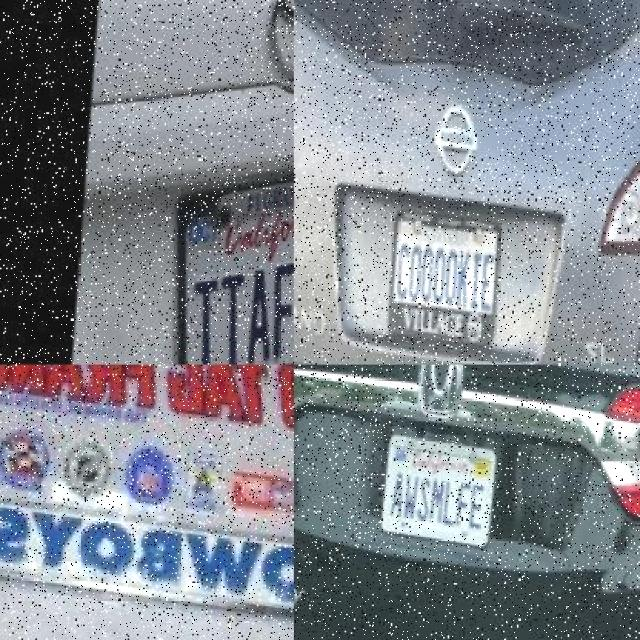licenseplate: (0, 364, 294, 476), (175, 176, 294, 365), (378, 208, 498, 346), (372, 429, 498, 554)
